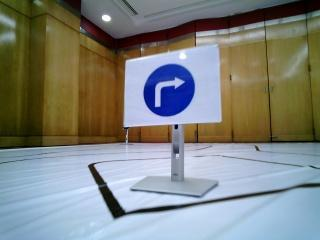right: (125, 54, 218, 123)
